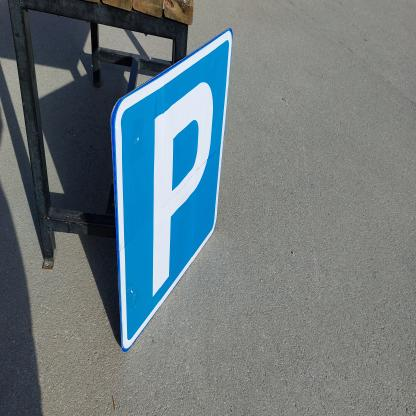Parking-Sign: (111, 28, 235, 351)
